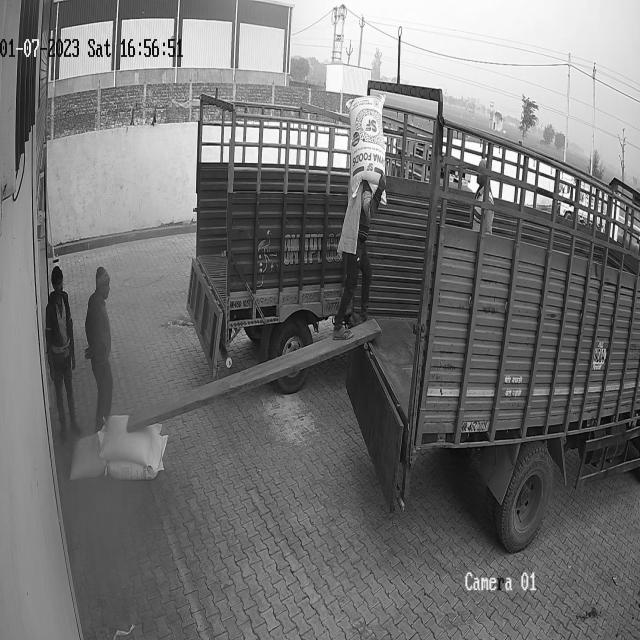sack: (346, 94, 387, 203), (98, 413, 162, 470), (105, 434, 168, 479), (69, 431, 106, 482)
